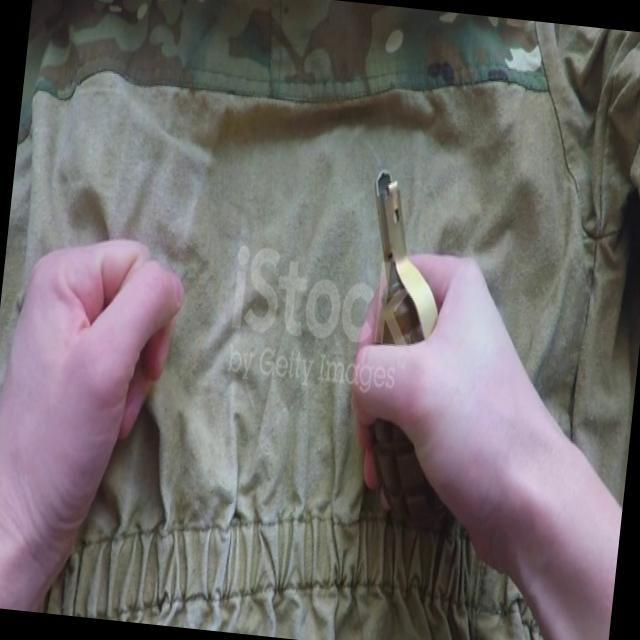grenade: (338, 170, 484, 526)
